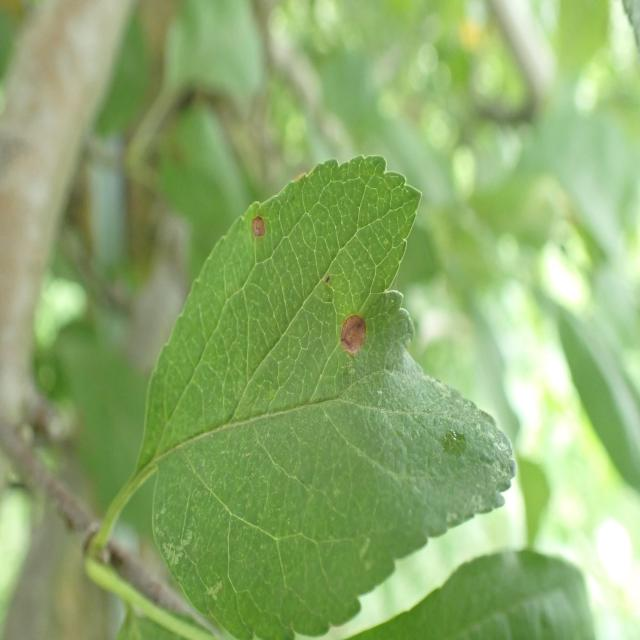Black Rot: (335, 295, 375, 388), (241, 190, 276, 259)
